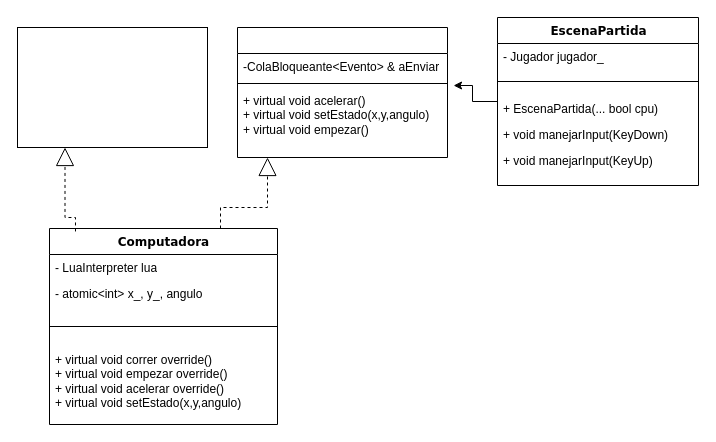
Image size: 716x442. Some labels were removed from this diagram. Here are the shapes that lost their labels. From the top down, the box of each, then its label:
(16, 26, 208, 148): <<Abstract Class>> Hilo - std::thread thread + virtual void correr()
(236, 26, 448, 158): Jugador
